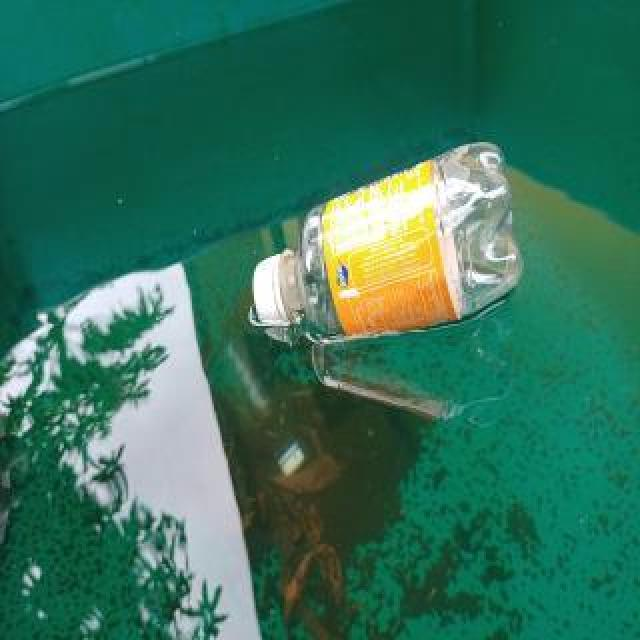Bottle: (253, 137, 525, 351)
